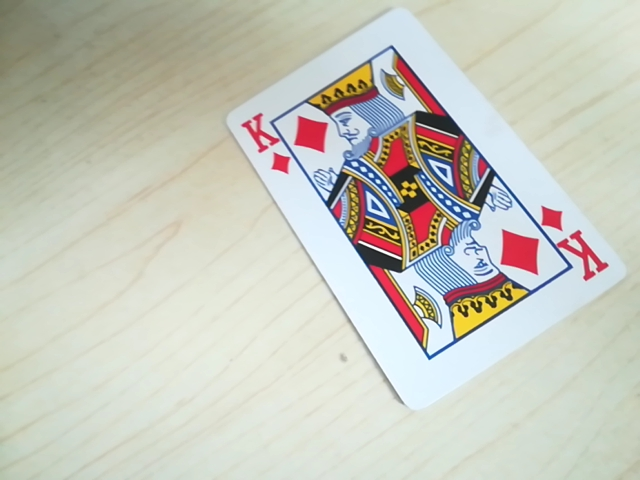fk k: (545, 207, 606, 283), (236, 113, 299, 173)
